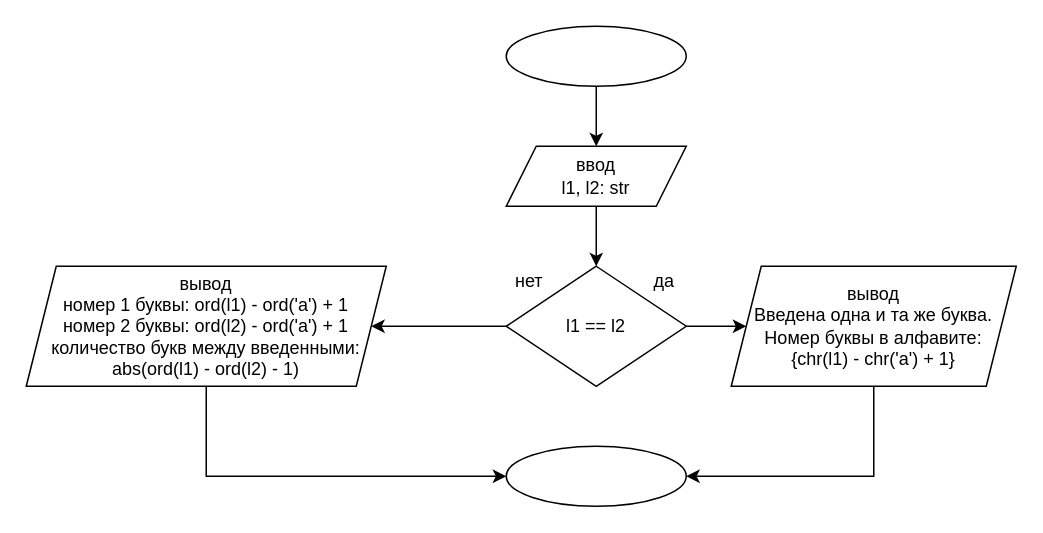
Image size: 1043x533. Some labels were removed from this diagram. Each missing label, with the box of its shape:
конец: (505, 445, 686, 506)
начало: (505, 25, 686, 86)
